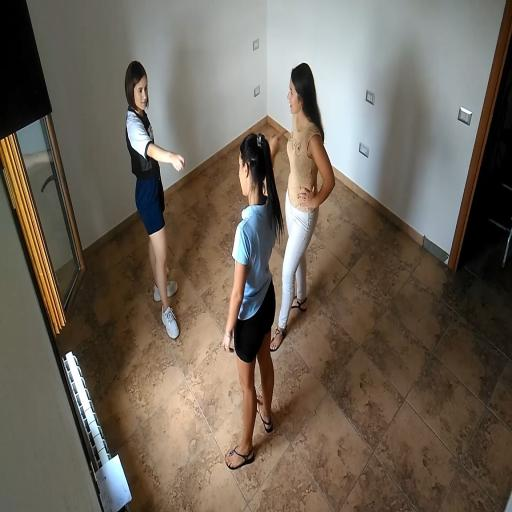nao-violencia: (108, 48, 340, 474)
